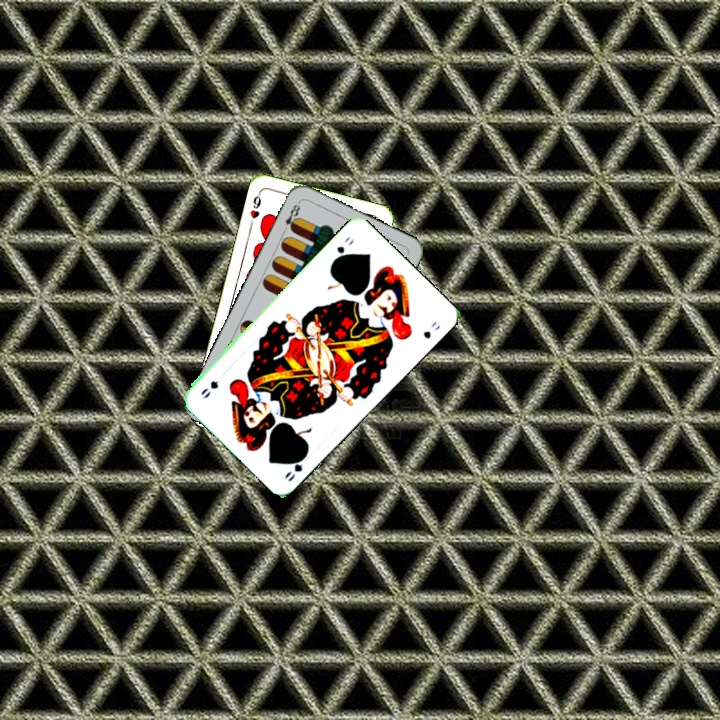E8: (279, 198, 303, 236)
GO: (280, 448, 310, 485), (329, 232, 357, 265)
H9: (246, 188, 264, 228)
